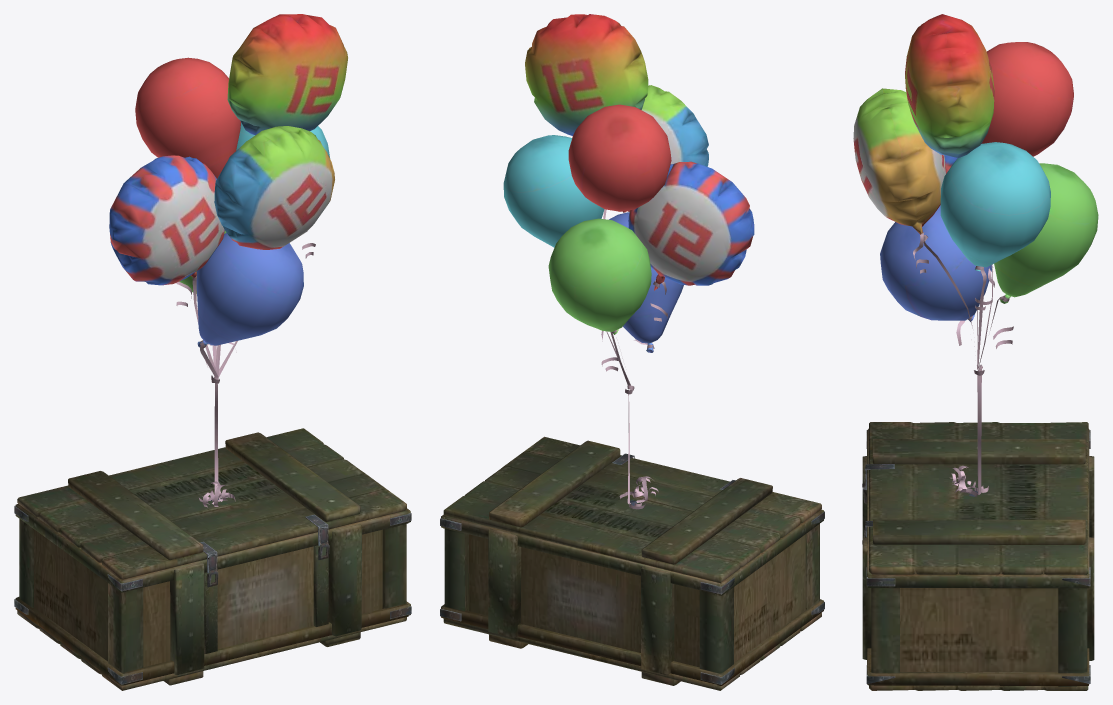
The model's file is crate_normal.glb.
3 renders of one model, left to right at view 1: azimuth 30°, elevation 25°; view 2: azimuth 150°, elevation 25°; view 3: azimuth 270°, elevation 25°, orthographic. The views are drawn at different scales.
Visible parts, largest first — view 1: wooden_crate_2, mixed_balloon_clump_LOD0; view 2: wooden_crate_2, mixed_balloon_clump_LOD0; view 3: wooden_crate_2, mixed_balloon_clump_LOD0.
Part boxes in pixels (box(x1,y1,x2,y2)): wooden_crate_2: box(14, 428, 411, 690); mixed_balloon_clump_LOD0: box(109, 14, 347, 507); wooden_crate_2: box(440, 436, 824, 690); mixed_balloon_clump_LOD0: box(503, 14, 754, 509); wooden_crate_2: box(862, 422, 1094, 690); mixed_balloon_clump_LOD0: box(853, 14, 1098, 497).
Size of the model in its own units: 1.36 by 2.71 by 0.9457.
Materials: 3 (3 with a texture image).
